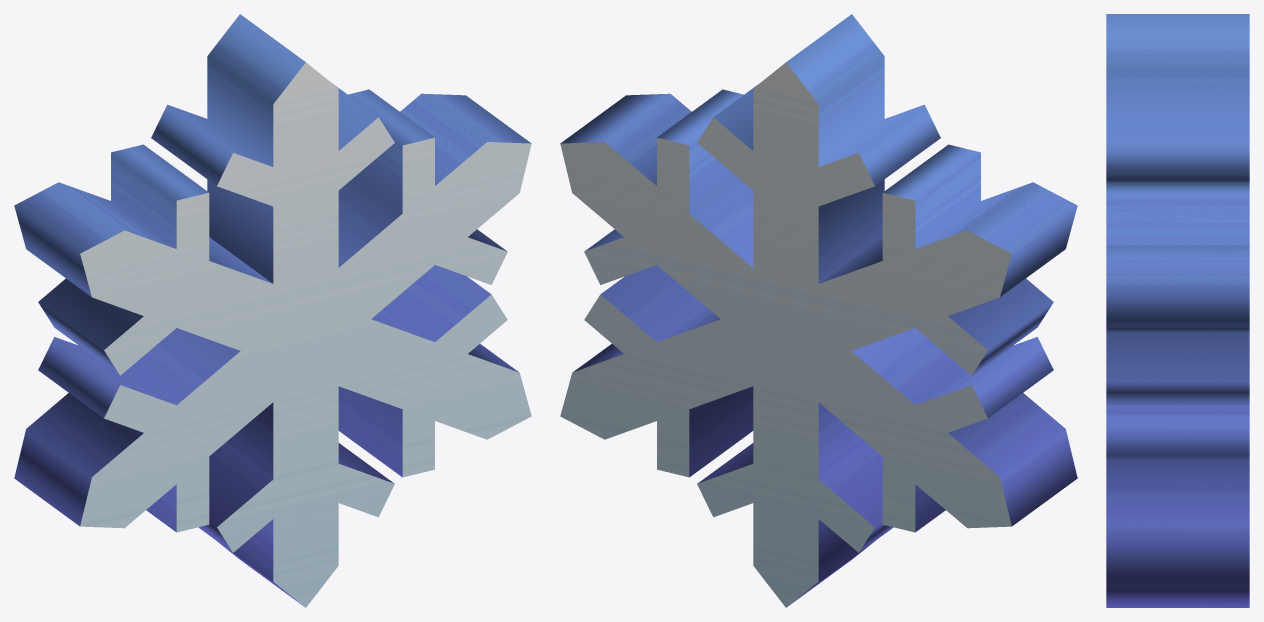
File: snowflake-a.glb
The picture shows the model from 3 angles, left to right: view 1: azimuth 30°, elevation 25°; view 2: azimuth 150°, elevation 25°; view 3: azimuth 270°, elevation 25°; orthographic projection. The views are drawn at different scales.
Visible parts, largest first — view 1: snowflake-a; view 2: snowflake-a; view 3: snowflake-a.
Boxes of the visible parts, left/top/right/bottom form: snowflake-a: left=14, top=14, right=531, bottom=607; snowflake-a: left=560, top=14, right=1077, bottom=607; snowflake-a: left=1106, top=14, right=1249, bottom=607.
Size of the model in its own units: 1.04 by 1.2 by 0.2625.
1 material, 1 textured.
